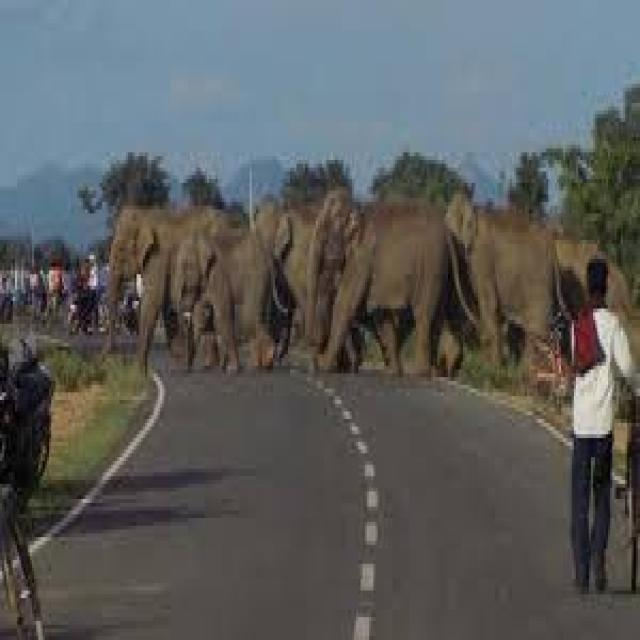Elephant: (298, 171, 464, 387), (440, 184, 568, 384), (174, 216, 285, 400), (103, 195, 169, 382)
